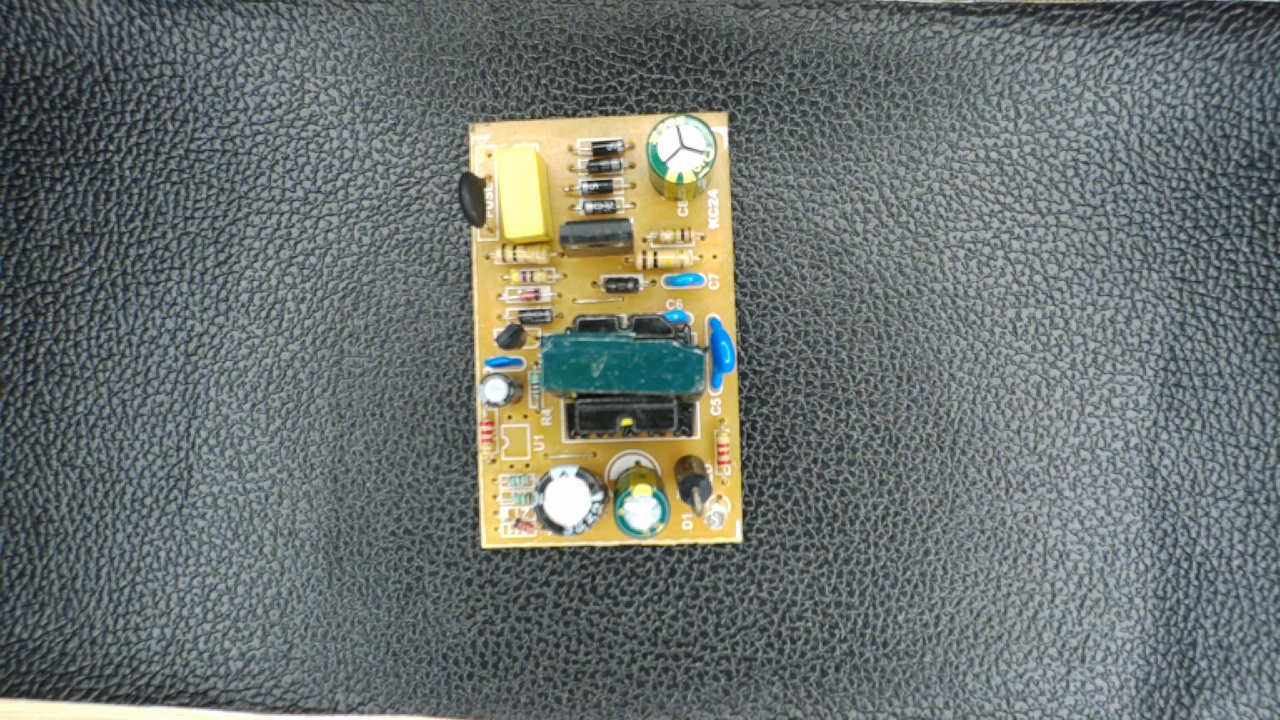fuse: (458, 158, 497, 240)
hv_capacitor: (641, 108, 720, 207)
mov: (699, 309, 738, 401)
